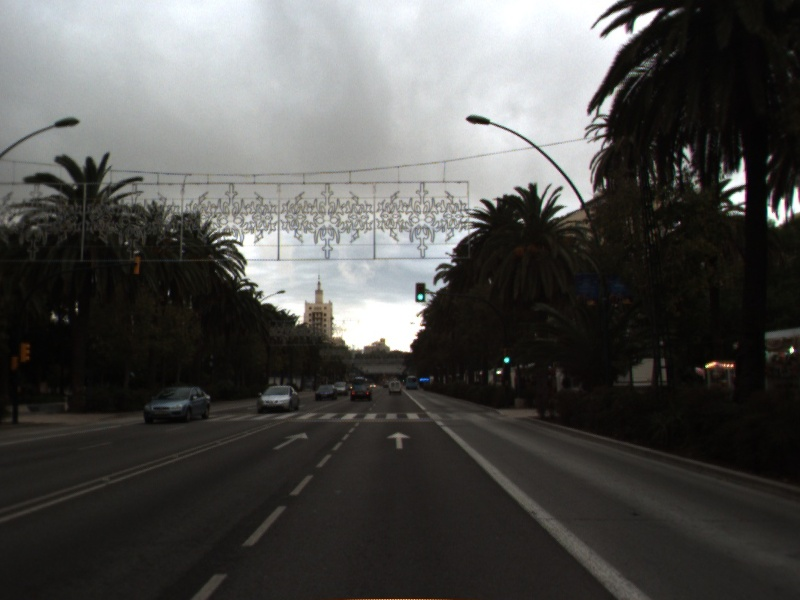STRAIGHT: (270, 430, 310, 452), (385, 429, 413, 451)
